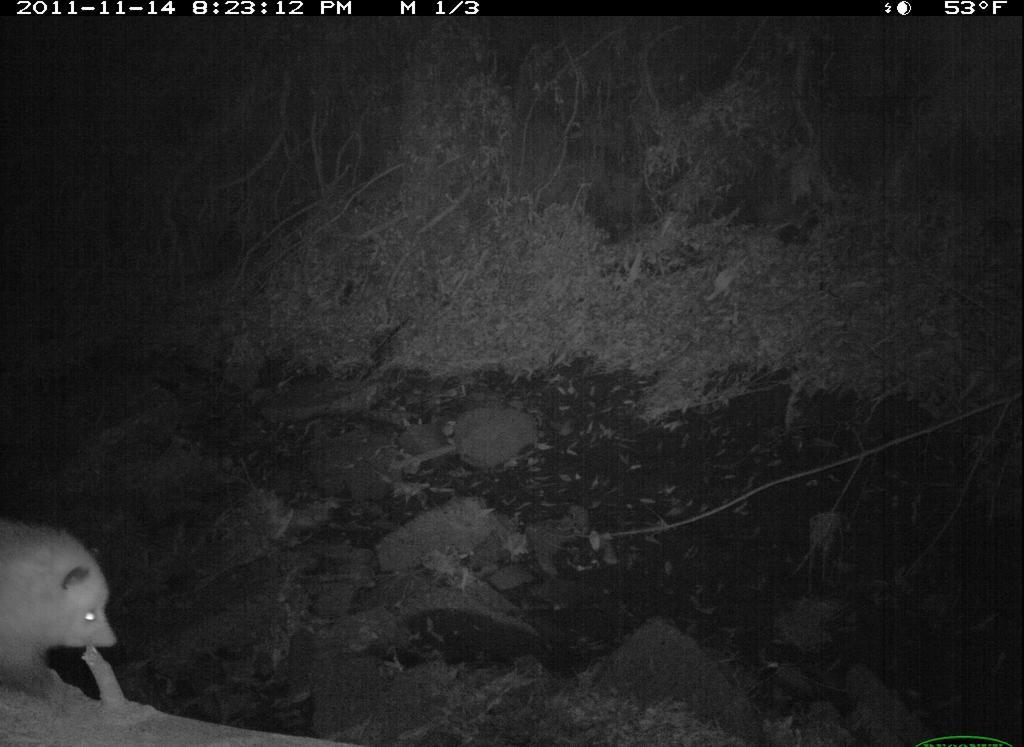opossum: (2, 513, 121, 705)
